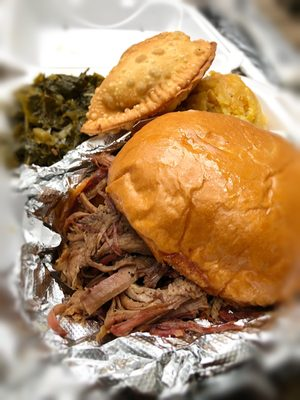curry: (6, 68, 105, 168)
soup: (105, 110, 300, 308)
